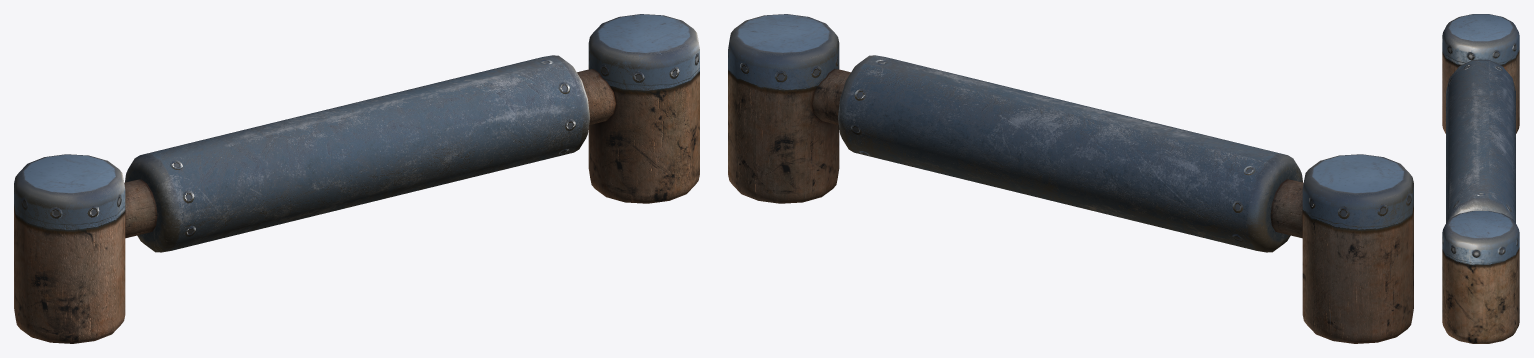
Rendered from Obstacle-25.fbx.
3 views of the same model, side by side, from view 1: azimuth 30°, elevation 25°; view 2: azimuth 150°, elevation 25°; view 3: azimuth 270°, elevation 25° (orthographic). The views are drawn at different scales.
Parts seen in each view (by area): view 1: Obstacle-25; view 2: Obstacle-25; view 3: Obstacle-25.
Part boxes in pixels (bbox=[...]): Obstacle-25: bbox=[14, 14, 699, 343]; Obstacle-25: bbox=[728, 14, 1413, 343]; Obstacle-25: bbox=[1442, 14, 1519, 343].
Size of the model in its own units: 3.5 by 0.75 by 0.5.
